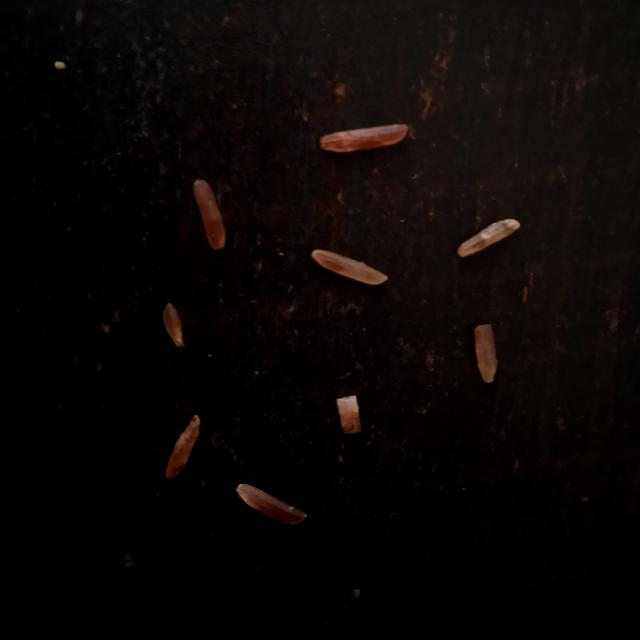Broken: (236, 483, 307, 525), (311, 249, 388, 285), (320, 124, 408, 153), (458, 219, 520, 257), (165, 414, 201, 479), (193, 180, 226, 250), (474, 324, 498, 383), (336, 395, 362, 434), (162, 303, 185, 347)
